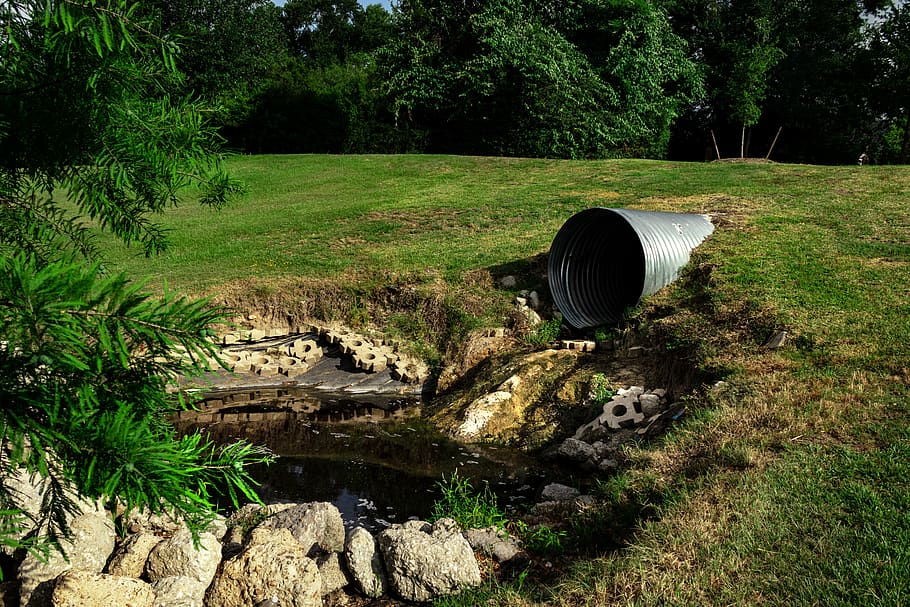Culvert: (548, 209, 645, 329)
Empty Outlet: (548, 209, 645, 329)
